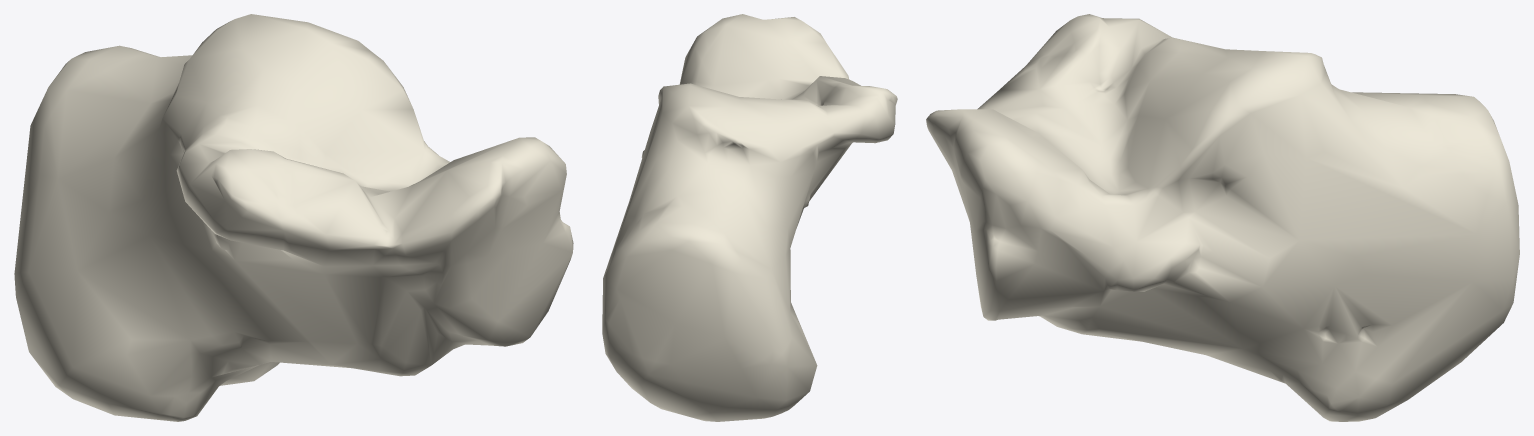
3 renders of one model, left to right at view 1: azimuth 30°, elevation 25°; view 2: azimuth 150°, elevation 25°; view 3: azimuth 270°, elevation 25°, orthographic. The views are drawn at different scales.
Visible parts, largest first — view 1: ZA_d57557923d41fbaf; view 2: ZA_d57557923d41fbaf; view 3: ZA_d57557923d41fbaf.
Boxes of the visible parts, <box> form: ZA_d57557923d41fbaf: <box>14,14,573,421</box>; ZA_d57557923d41fbaf: <box>602,14,897,421</box>; ZA_d57557923d41fbaf: <box>926,14,1519,421</box>.
Bounding box in the file's own units: 0.0475 × 0.0511 × 0.0757.
